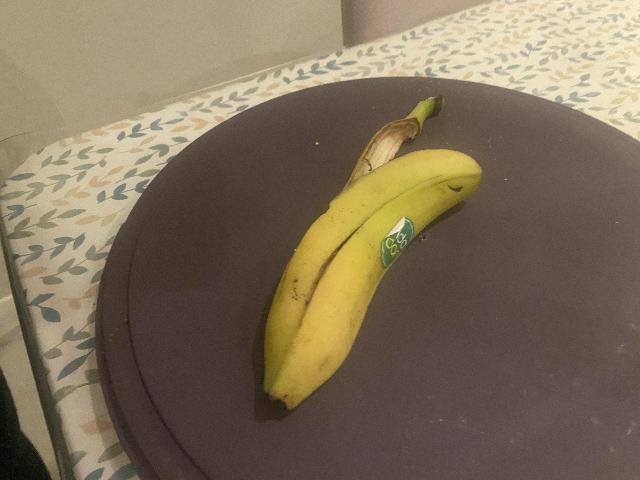Organik: (249, 92, 497, 417)
